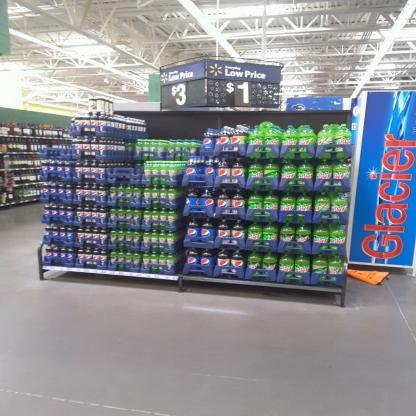Void: (150, 113, 201, 138), (110, 143, 141, 169)
